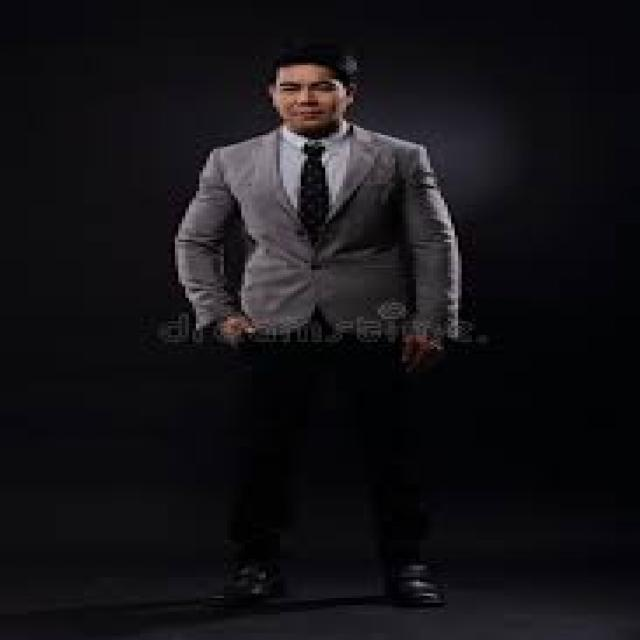No_BreathingApparatus: (273, 71, 343, 129)
No_Glove: (216, 305, 266, 353), (398, 330, 445, 372)
No_Harness: (196, 129, 465, 330)
No_Helmet: (260, 40, 357, 78)
Person: (127, 19, 605, 594)
